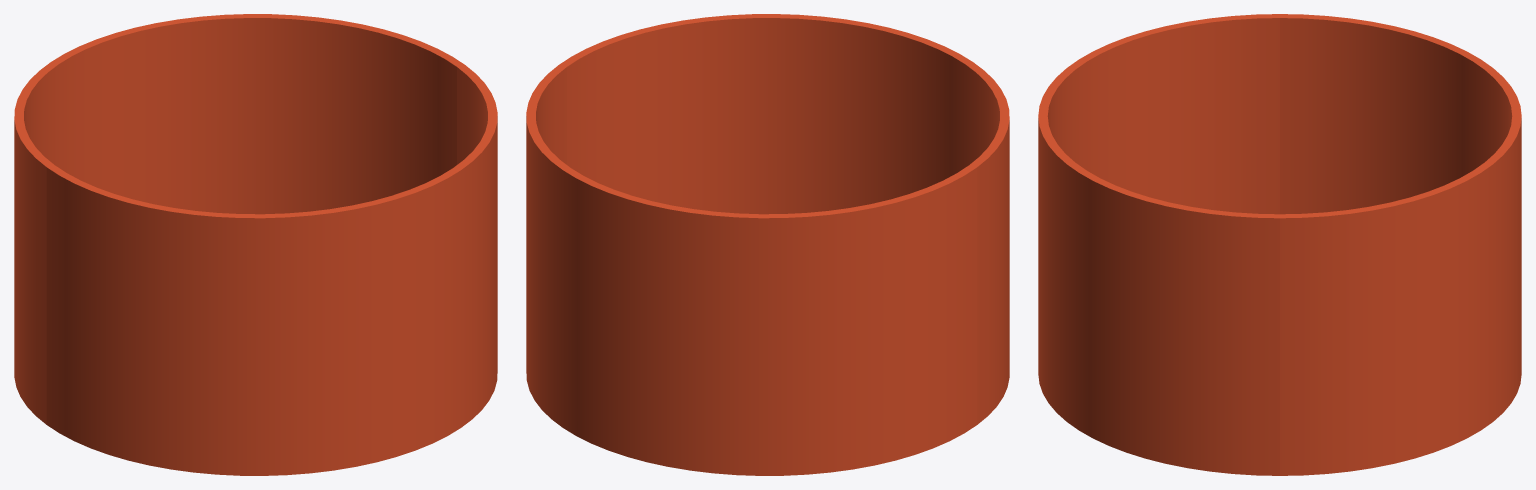
File: basket_centrifuge_pressure.glb
3 views of the same model, side by side, from view 1: azimuth 30°, elevation 25°; view 2: azimuth 150°, elevation 25°; view 3: azimuth 270°, elevation 25° (orthographic).
Parts seen in each view (by area): view 1: press__front, press__back; view 2: press__back, press__front; view 3: press__back, press__front.
Boxes of the visible parts, <box> form: press__front: <box>46,65,497,475</box>; press__back: <box>14,14,464,424</box>; press__back: <box>526,65,977,475</box>; press__front: <box>559,14,1009,424</box>; press__back: <box>1280,14,1521,475</box>; press__front: <box>1038,14,1279,475</box>.
Size of the model in its own units: 1.02 by 0.6 by 1.02.
